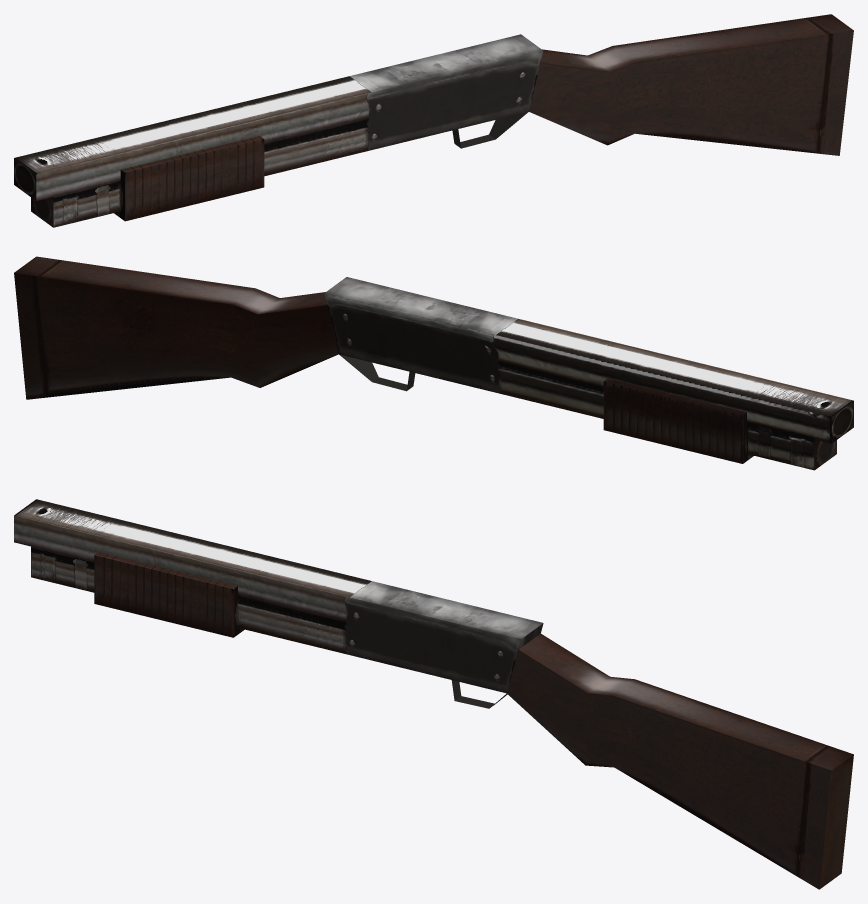
Rendered from Shotgun.fbx.
The picture shows the model from 3 angles, top to bottom: view 1: azimuth 30°, elevation 25°; view 2: azimuth 150°, elevation 25°; view 3: azimuth 330°, elevation 25°; orthographic projection.
Visible parts, largest first — view 1: ShotgunLow; view 2: ShotgunLow; view 3: ShotgunLow.
Boxes of the visible parts, x1,y1,x2,y2 form: ShotgunLow: [14, 14, 853, 227]; ShotgunLow: [14, 256, 853, 470]; ShotgunLow: [14, 499, 853, 889].
Size of the model in its own units: 410 by 85.54 by 26.8.
1 material, 1 textured.
